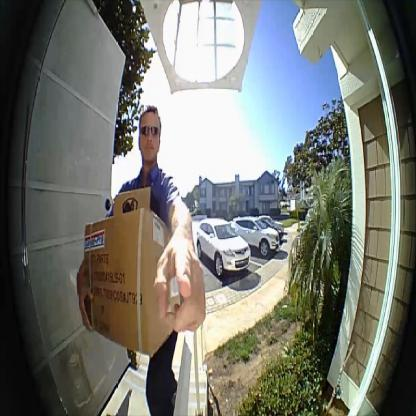package: (81, 212, 185, 362), (111, 188, 163, 222)
